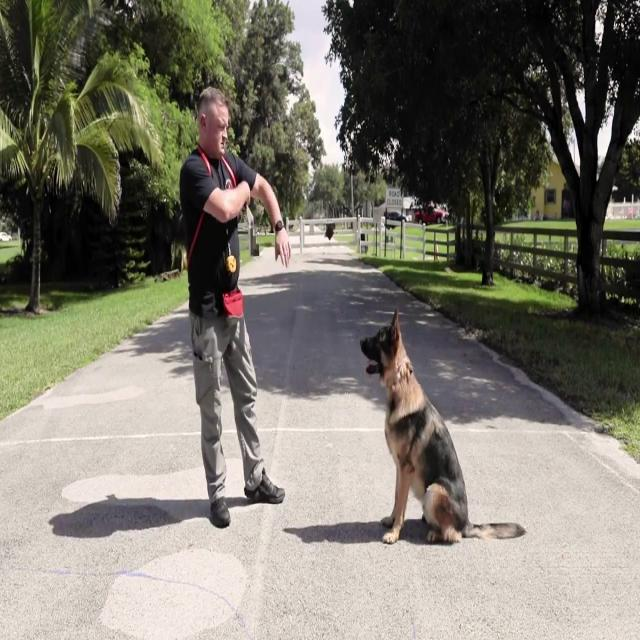Unleashed_Dog: (194, 304, 526, 543)
